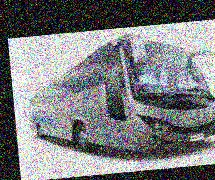bus: (26, 27, 215, 168)
